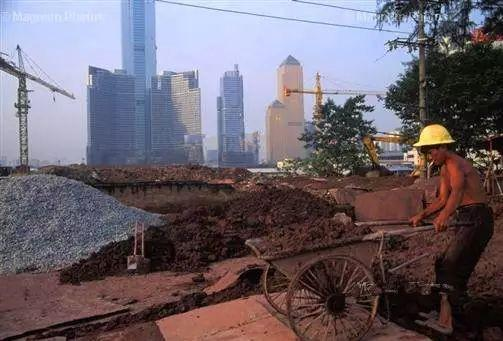helmet: (413, 123, 459, 151)
no_wear: (441, 160, 482, 212)
